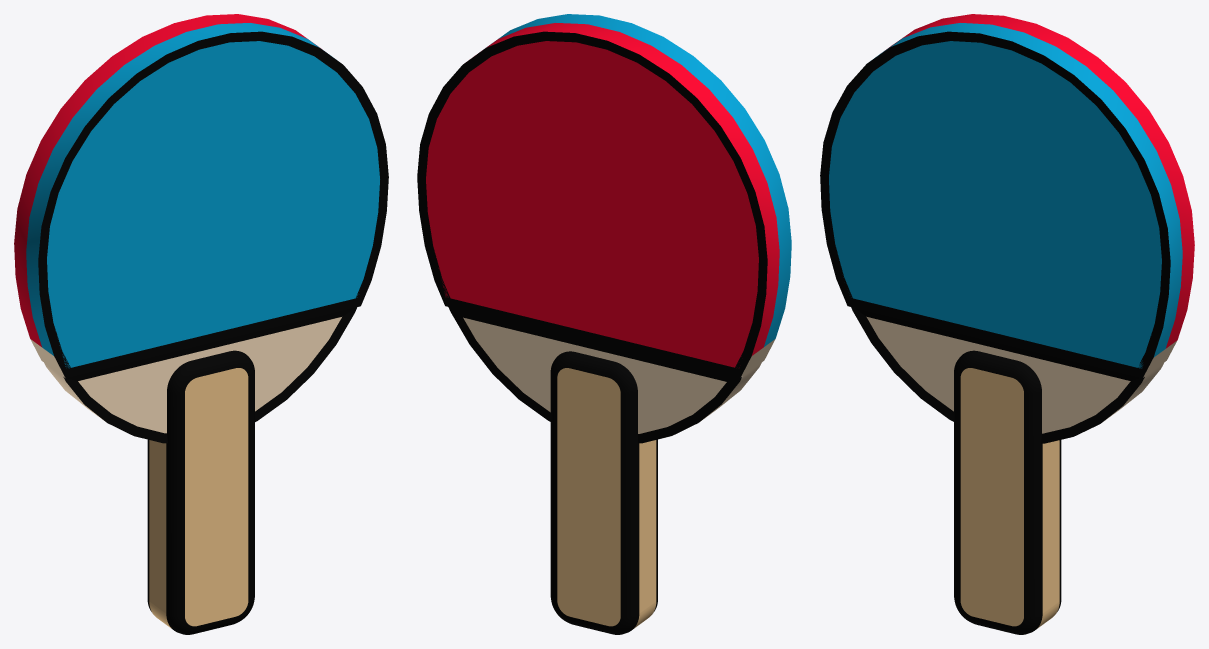
Rendered from Ping pong.glb.
The picture shows the model from 3 angles, left to right: view 1: azimuth 30°, elevation 25°; view 2: azimuth 150°, elevation 25°; view 3: azimuth 330°, elevation 25°; orthographic projection.
Parts seen in each view (by area): view 1: Extrude.1-Mat (×2), Extrude-Mat.2, Extrude.1-Mat.1 (×3), Cube-Mat.1 (×2), Extrude-Mat.1; view 2: Extrude.1-Mat.1 (×3), Extrude-Mat.2, Cube.1-Mat.1 (×2), Extrude-Mat.1, Extrude.1-Mat; view 3: Extrude.1-Mat (×2), Extrude-Mat.2, Extrude.1-Mat.1 (×3), Cube-Mat.1 (×2), Extrude-Mat.1.
Part boxes in pixels (x1=…): Extrude.1-Mat (×2): x1=26, y1=23, x2=379, y2=368; Extrude-Mat.2: x1=149, y1=368, x2=248, y2=628; Extrude.1-Mat.1 (×3): x1=14, y1=14, x2=388, y2=420; Cube-Mat.1 (×2): x1=63, y1=307, x2=356, y2=443; Extrude-Mat.1: x1=147, y1=350, x2=254, y2=634; Extrude.1-Mat.1 (×3): x1=417, y1=23, x2=779, y2=421; Extrude-Mat.2: x1=557, y1=368, x2=656, y2=628; Cube.1-Mat.1 (×2): x1=448, y1=307, x2=741, y2=443; Extrude-Mat.1: x1=550, y1=351, x2=657, y2=634; Extrude.1-Mat: x1=483, y1=14, x2=791, y2=346; Extrude.1-Mat (×2): x1=829, y1=23, x2=1182, y2=368; Extrude-Mat.2: x1=960, y1=368, x2=1059, y2=628; Extrude.1-Mat.1 (×3): x1=820, y1=14, x2=1194, y2=420; Cube-Mat.1 (×2): x1=851, y1=307, x2=1144, y2=443; Extrude-Mat.1: x1=954, y1=350, x2=1061, y2=634.
Bounding box in the file's own units: 0.1502 × 0.2433 × 0.0227.
